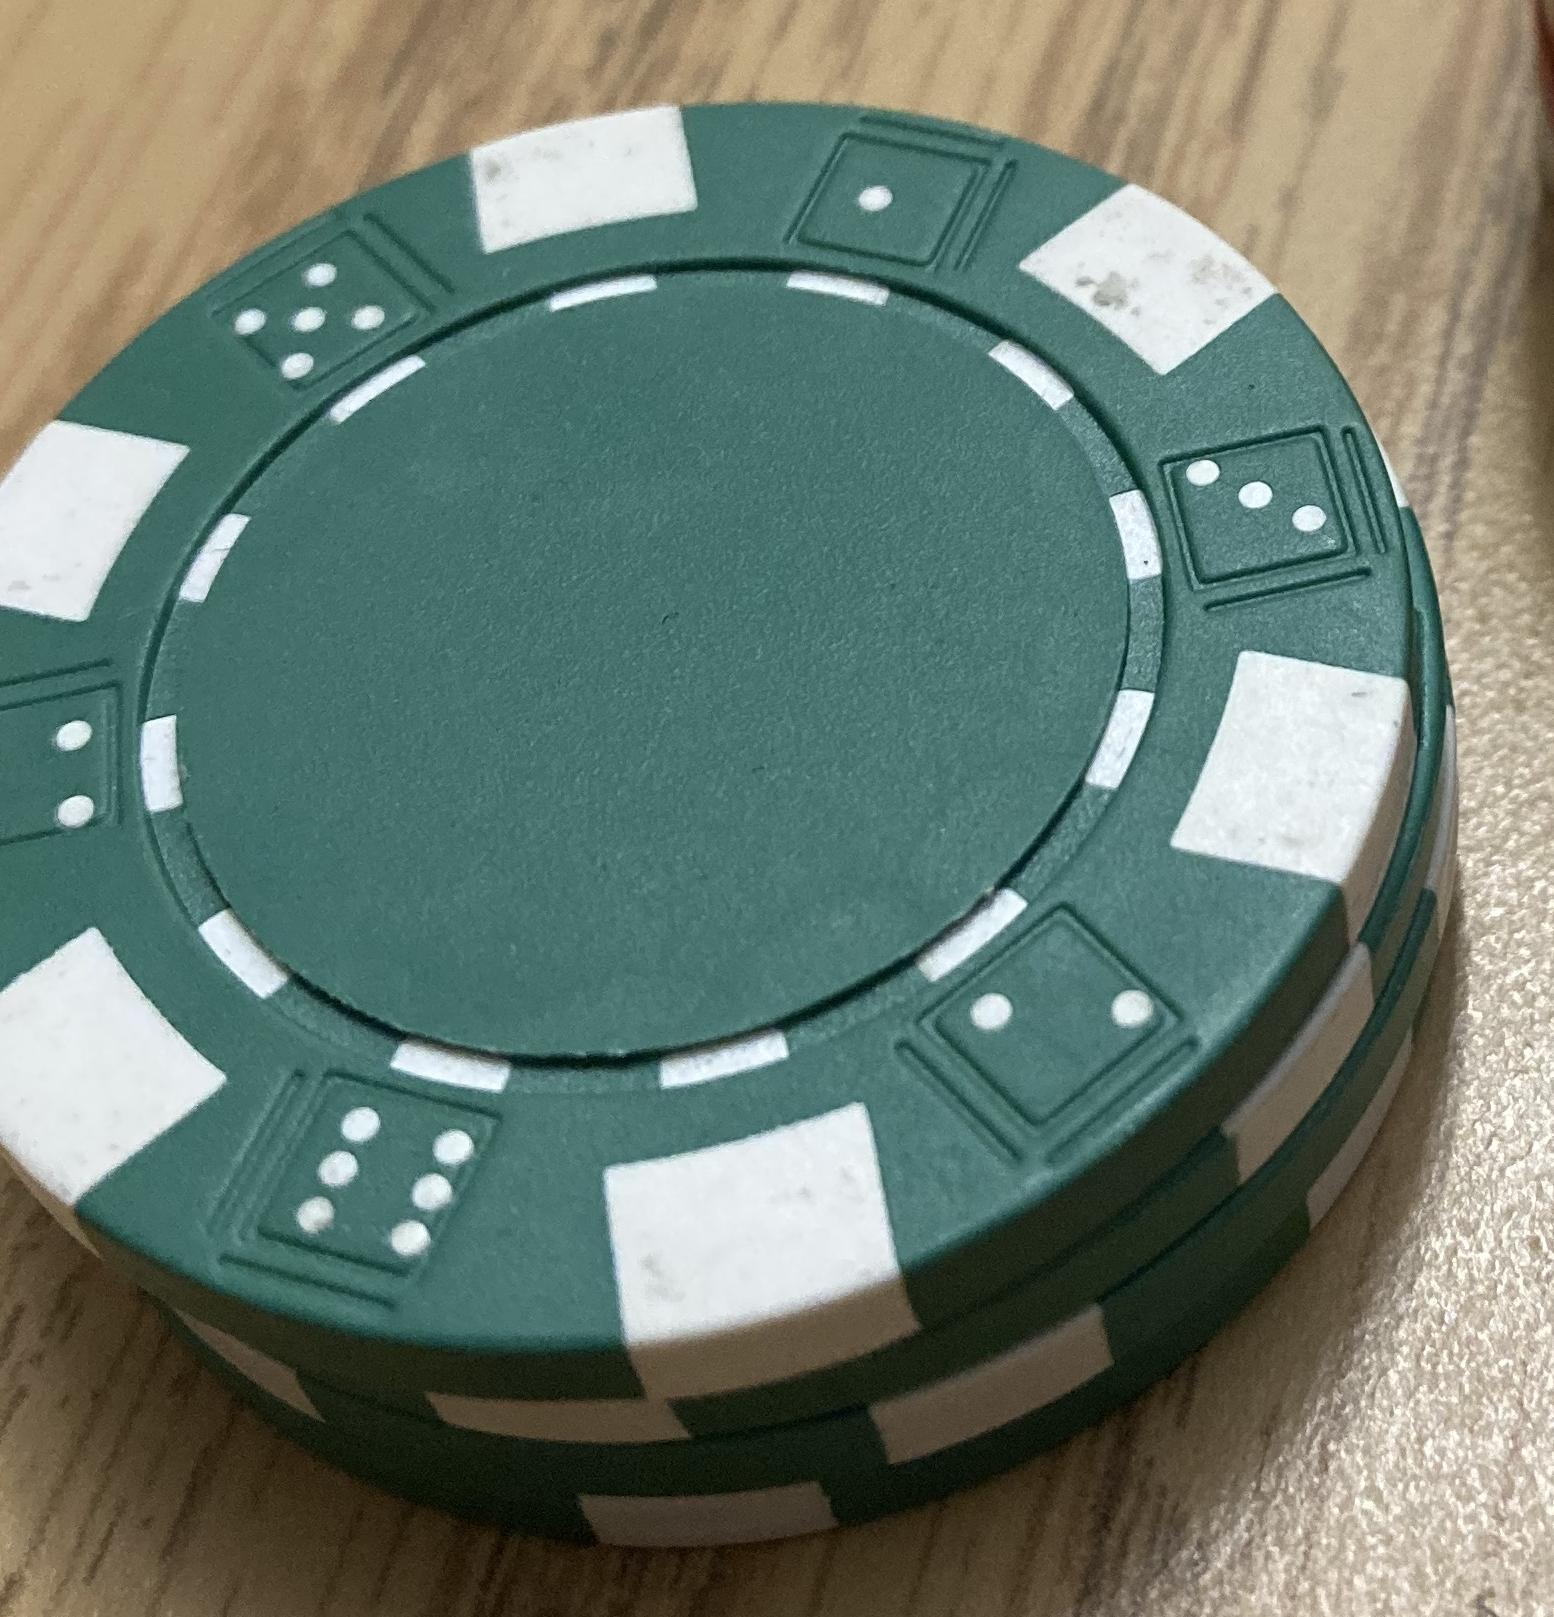Chip: (1, 1, 1554, 1617)
